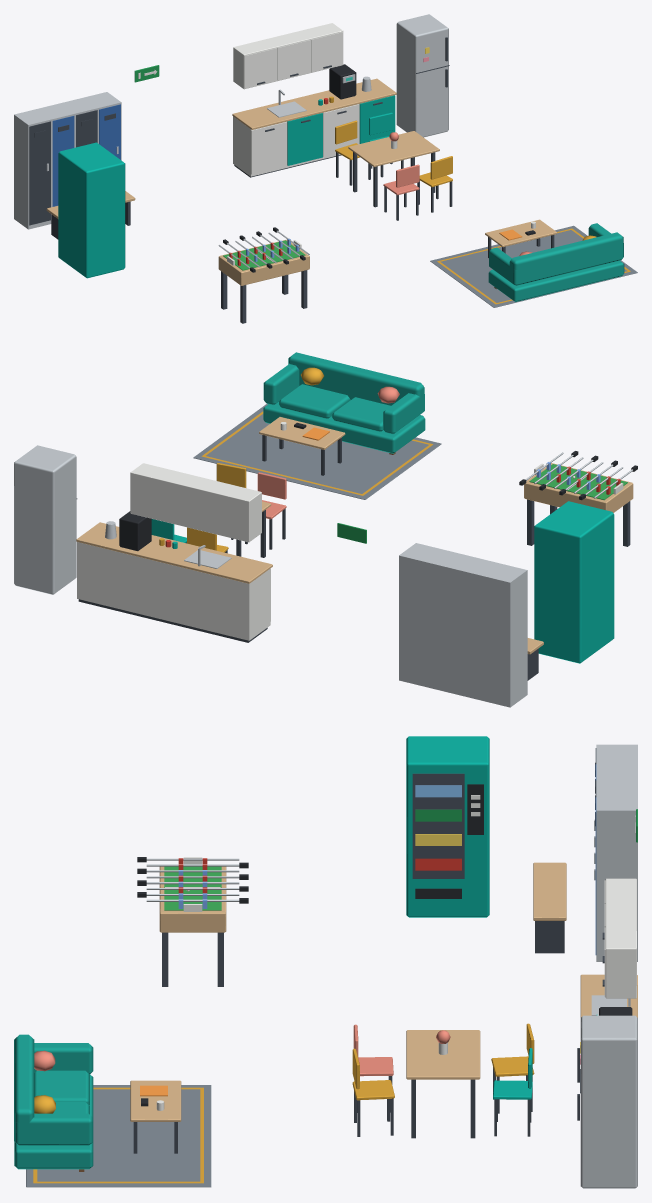
The model's file is einrichtung_pausenraum.glb.
3 views of the same model, one above another, from view 1: azimuth 30°, elevation 25°; view 2: azimuth 150°, elevation 25°; view 3: azimuth 270°, elevation 25° (orthographic). The views are drawn at different scales.
Visible parts, largest first — view 1: einrichtung_pausenraum; view 2: einrichtung_pausenraum; view 3: einrichtung_pausenraum.
Boxes of the visible parts, bbox=[...] form: einrichtung_pausenraum: bbox=[14, 14, 637, 323]; einrichtung_pausenraum: bbox=[14, 352, 637, 707]; einrichtung_pausenraum: bbox=[14, 736, 637, 1188].
Size of the model in its own units: 7.64 by 2.05 by 6.73.
